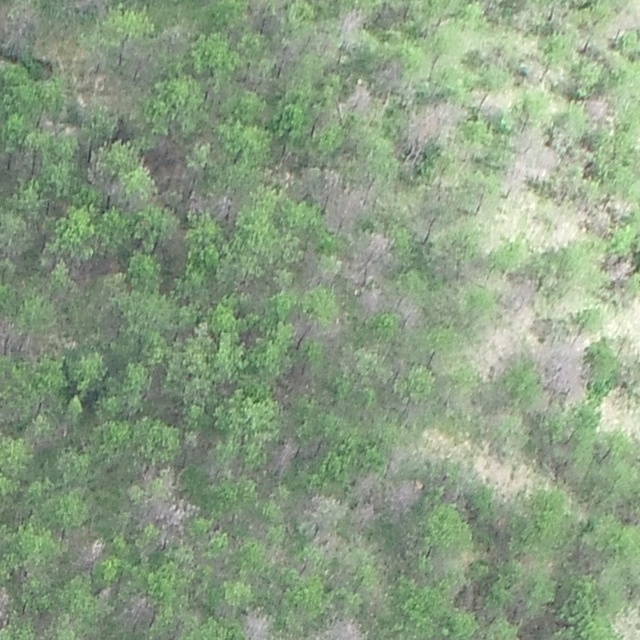unhealthy: (534, 333, 589, 399), (315, 169, 372, 230), (503, 126, 557, 189), (405, 97, 463, 151), (340, 231, 395, 285), (142, 136, 189, 187), (471, 329, 516, 381), (140, 495, 196, 536), (497, 272, 539, 324), (1, 2, 41, 53), (293, 491, 342, 527), (66, 529, 106, 571), (64, 253, 118, 283), (289, 313, 338, 346), (274, 362, 314, 401), (551, 203, 585, 248), (350, 484, 381, 531), (473, 85, 517, 117), (120, 39, 156, 78), (119, 591, 156, 628), (385, 478, 423, 513), (296, 248, 328, 287), (392, 294, 426, 329), (319, 616, 368, 640), (272, 33, 304, 68), (269, 437, 298, 475), (5, 146, 39, 178), (606, 5, 638, 39), (210, 189, 242, 223), (239, 66, 275, 96), (36, 108, 74, 135), (373, 57, 405, 89), (241, 609, 275, 639), (344, 82, 375, 114), (603, 253, 635, 283), (135, 462, 169, 490), (583, 94, 612, 125), (357, 287, 386, 317), (452, 580, 480, 610), (0, 311, 20, 353), (337, 7, 367, 35), (312, 527, 343, 553), (298, 435, 326, 460), (67, 0, 112, 14), (489, 513, 510, 541), (0, 581, 12, 630), (186, 191, 209, 216), (265, 544, 290, 566)
